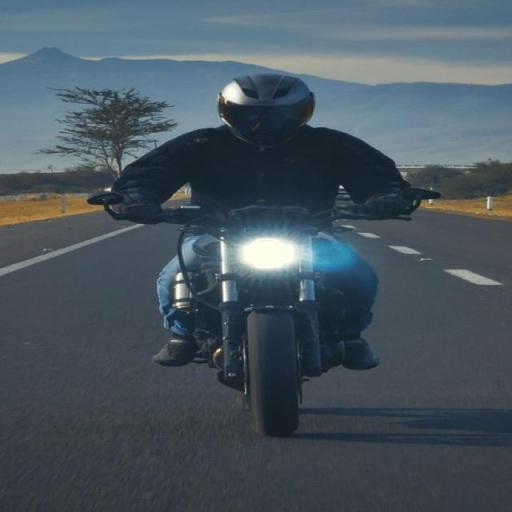Helmet: (218, 74, 314, 147)
Motor: (90, 190, 444, 446)
